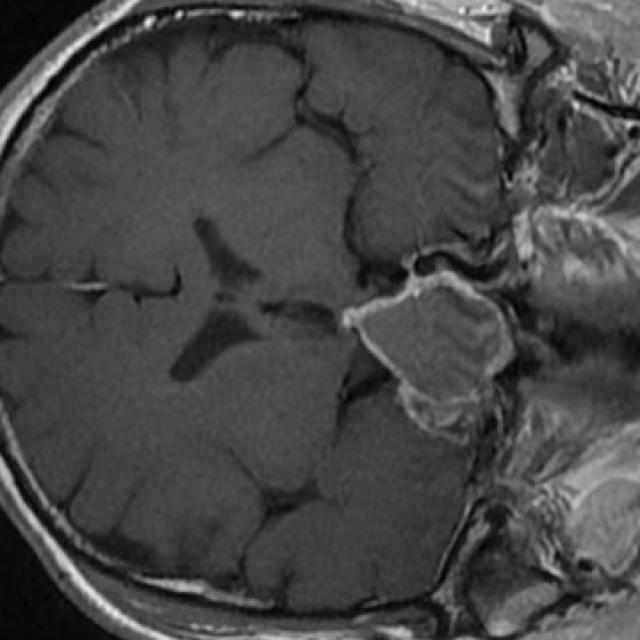pituitary: (342, 271, 515, 447)
